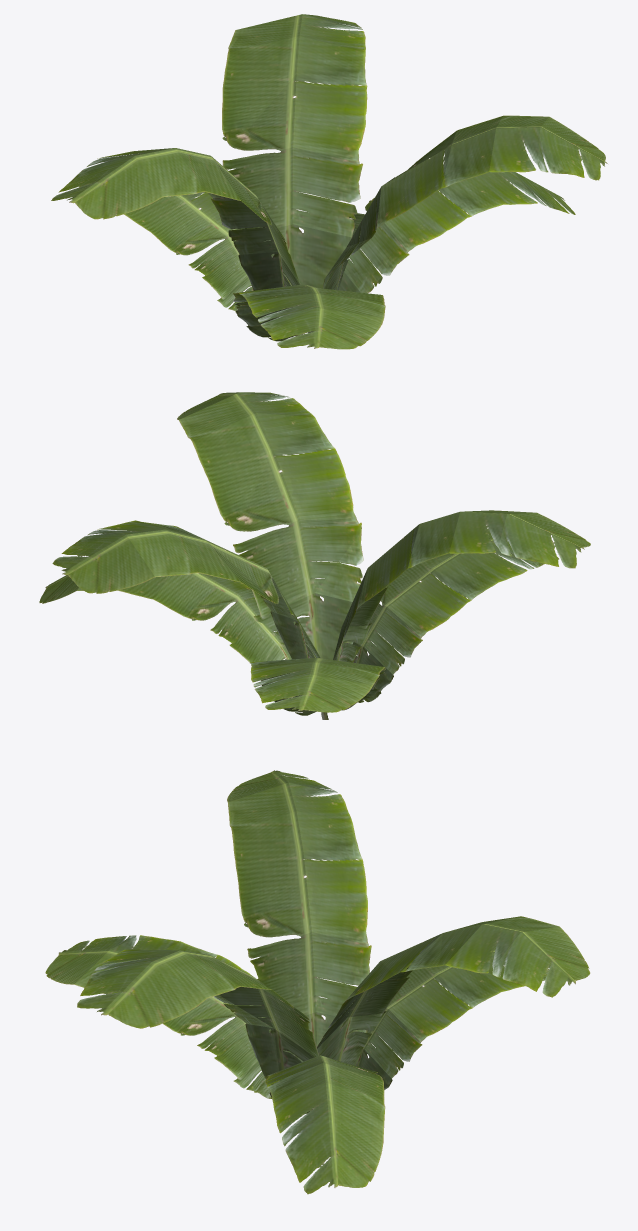
File: s_trop.glb
3 views of the same model, one above another, from view 1: azimuth 30°, elevation 25°; view 2: azimuth 150°, elevation 25°; view 3: azimuth 270°, elevation 25° (orthographic). The views are drawn at different scales.
Size of the model in its own units: 4.35 by 1.79 by 3.97.
Materials: 1 (1 with a texture image).
